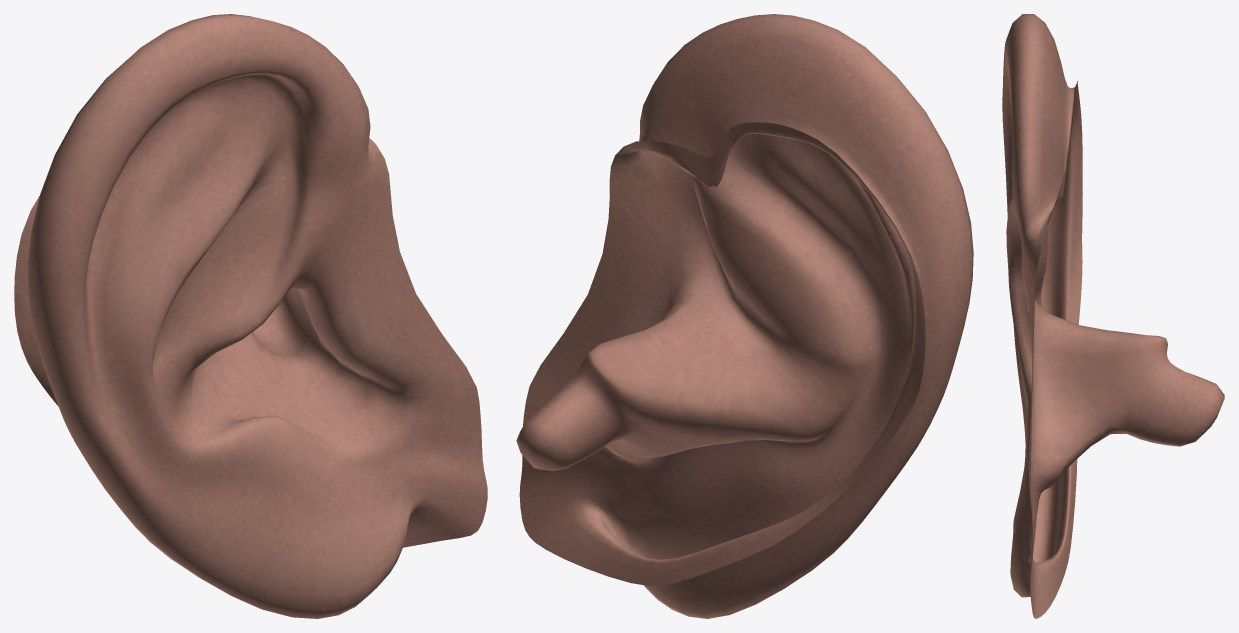
The model's file is test-ear.glb.
The picture shows the model from 3 angles, left to right: view 1: azimuth 30°, elevation 25°; view 2: azimuth 150°, elevation 25°; view 3: azimuth 270°, elevation 25°; orthographic projection. The views are drawn at different scales.
Visible parts, largest first — view 1: Human_Ear; view 2: Human_Ear; view 3: Human_Ear.
Boxes of the visible parts, <box> form: Human_Ear: <box>14,14,487,618</box>; Human_Ear: <box>516,14,973,618</box>; Human_Ear: <box>1002,14,1224,618</box>.
Size of the model in its own units: 0.0453 by 0.06 by 0.0233.
Materials: 1 (1 with a texture image).
